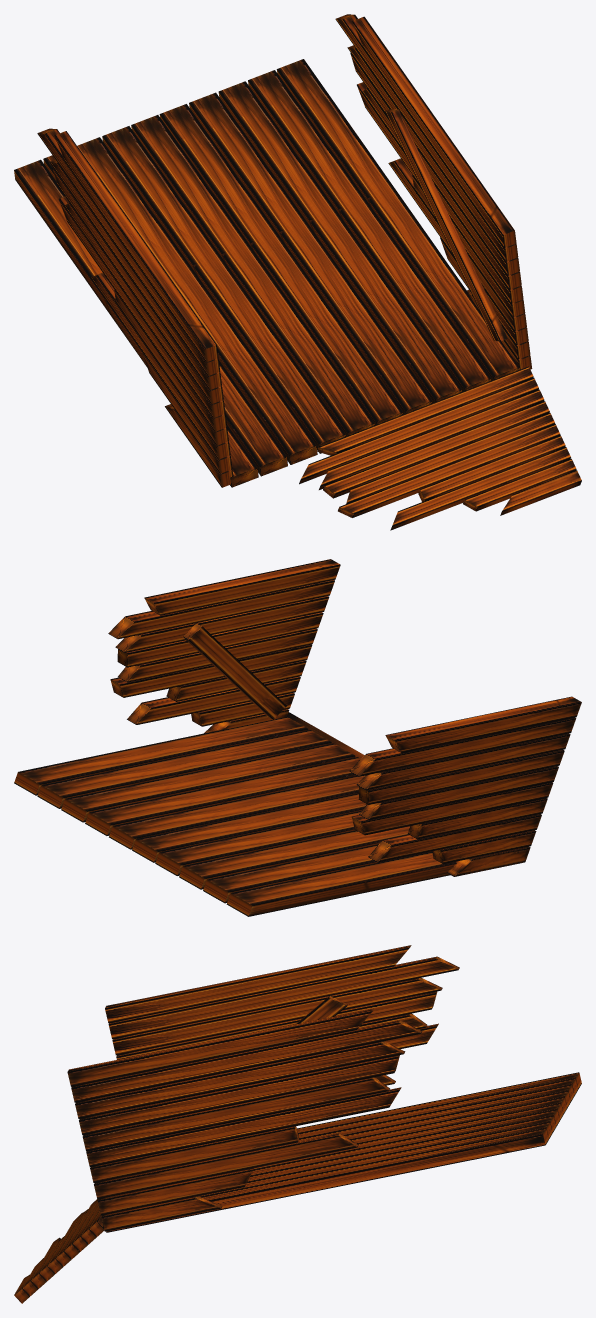
The model's file is broken wagon-2.fbx.
The picture shows the model from 3 angles, top to bottom: view 1: azimuth 30°, elevation 25°; view 2: azimuth 150°, elevation 25°; view 3: azimuth 270°, elevation 25°; orthographic projection. The views are drawn at different scales.
Visible parts, largest first — view 1: wall23; view 2: wall23; view 3: wall23.
Boxes of the visible parts, <box> form: wall23: <box>14,14,581,530</box>; wall23: <box>14,559,581,916</box>; wall23: <box>14,945,581,1303</box>.
Size of the model in its own units: 509 by 481 by 814.
